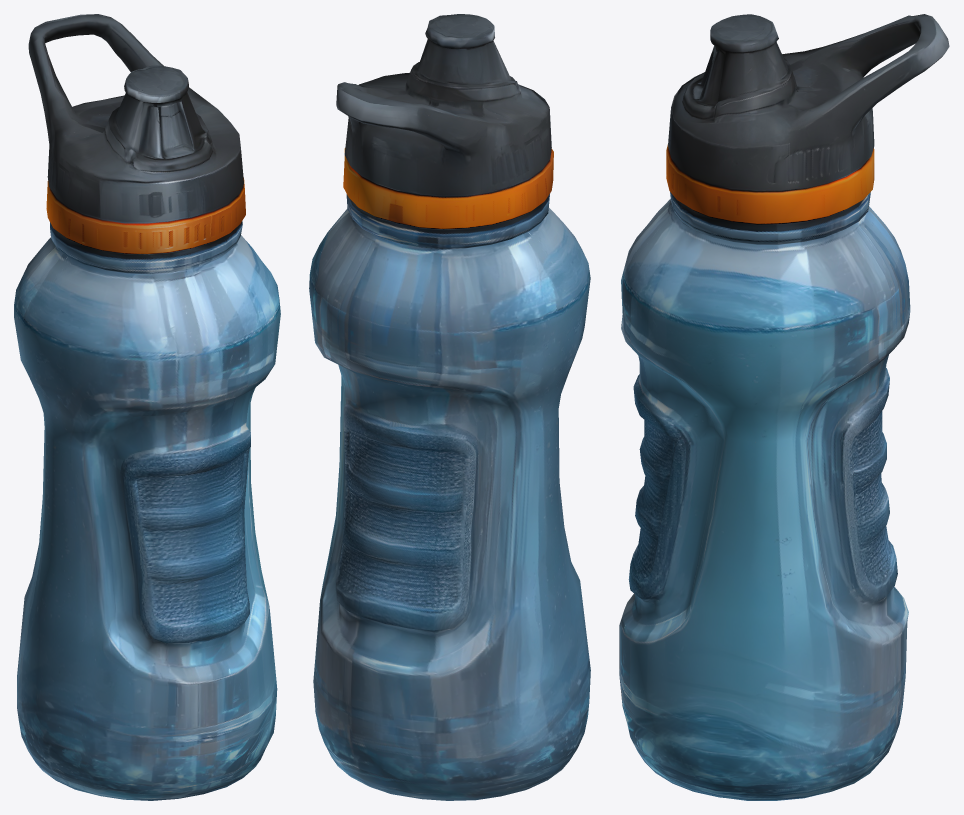
Rendered from food_water.glb.
3 views of the same model, side by side, from view 1: azimuth 30°, elevation 25°; view 2: azimuth 150°, elevation 25°; view 3: azimuth 270°, elevation 25° (orthographic). The views are drawn at different scales.
Visible parts, largest first — view 1: tripo_node_d86f8123-2947-4978-a5f5-24d4d00b2f45; view 2: tripo_node_d86f8123-2947-4978-a5f5-24d4d00b2f45; view 3: tripo_node_d86f8123-2947-4978-a5f5-24d4d00b2f45.
Part boxes in pixels (left/top/right/bottom): tripo_node_d86f8123-2947-4978-a5f5-24d4d00b2f45: left=14, top=14, right=280, bottom=800; tripo_node_d86f8123-2947-4978-a5f5-24d4d00b2f45: left=309, top=14, right=590, bottom=800; tripo_node_d86f8123-2947-4978-a5f5-24d4d00b2f45: left=619, top=14, right=949, bottom=800.
Bounding box in the file's own units: 0.085 × 0.24 × 0.0991.
Materials: 1 (1 with a texture image).
